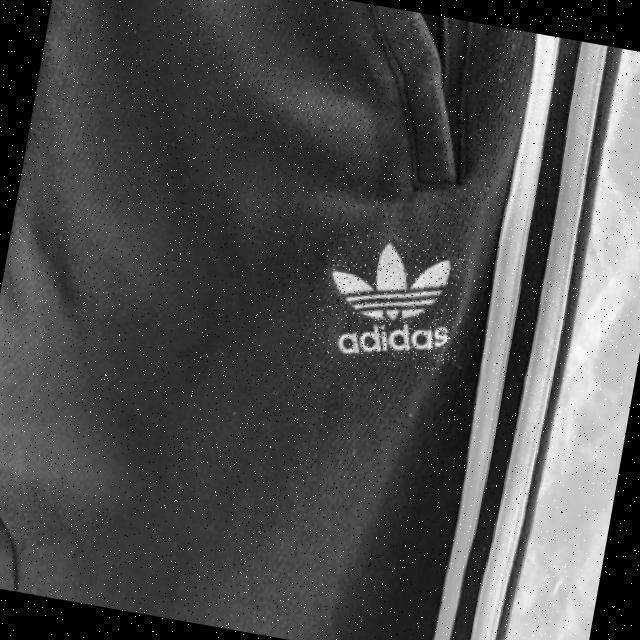Adidas: (309, 226, 474, 379)
